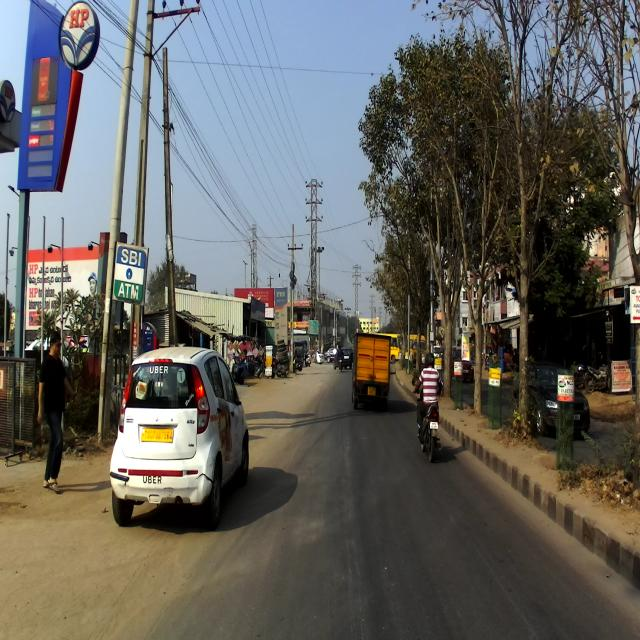auto ahead at: (353, 331, 392, 416)
car ahead at: (112, 348, 254, 527)
electric pole ahead at: (134, 0, 193, 356)
person ahead at: (38, 328, 73, 492)
